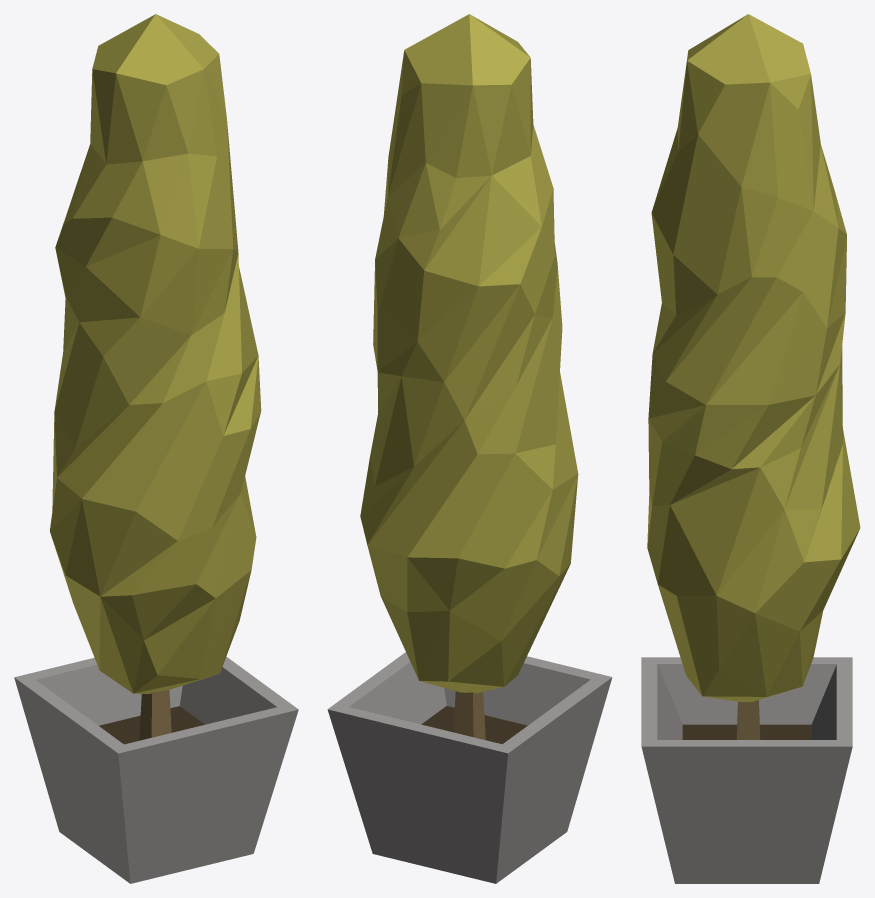
File: Small Coniferous.fbx
The picture shows the model from 3 angles, left to right: view 1: azimuth 30°, elevation 25°; view 2: azimuth 150°, elevation 25°; view 3: azimuth 270°, elevation 25°; orthographic projection.
Parts seen in each view (by area): view 1: small coniferous; view 2: small coniferous; view 3: small coniferous.
Boxes of the visible parts, x1,y1,x2,y2 form: small coniferous: (14,14,298,883); small coniferous: (327,14,612,883); small coniferous: (641,14,860,883).
Size of the model in its own units: 69.38 by 299 by 70.79.
